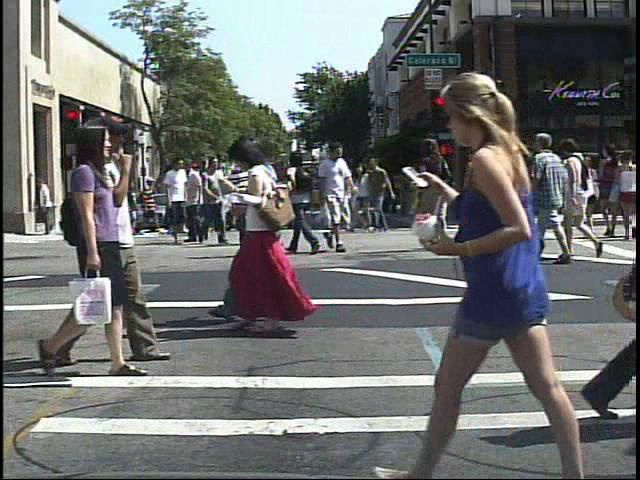person: (388, 62, 599, 480), (26, 115, 149, 382), (220, 134, 311, 334), (99, 108, 158, 371), (251, 131, 296, 333), (557, 132, 607, 264), (529, 121, 570, 269), (244, 136, 288, 262), (459, 143, 504, 256), (411, 133, 452, 255), (319, 141, 362, 253), (289, 150, 327, 257), (195, 154, 232, 249), (162, 157, 199, 243), (573, 147, 606, 243), (230, 150, 253, 247), (139, 174, 160, 242), (71, 182, 91, 232)
